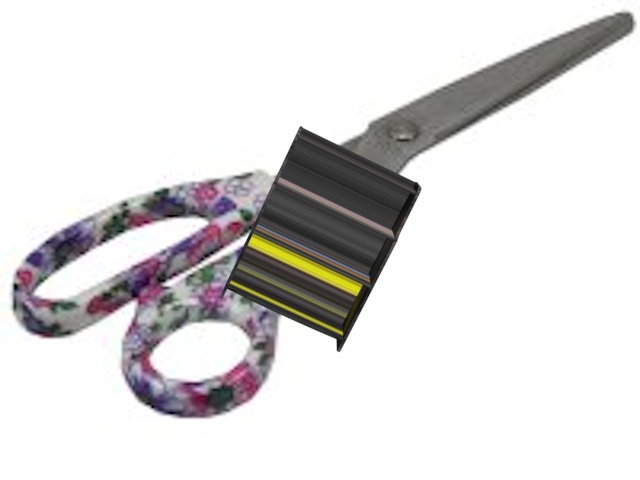bookcase: (209, 121, 432, 360)
